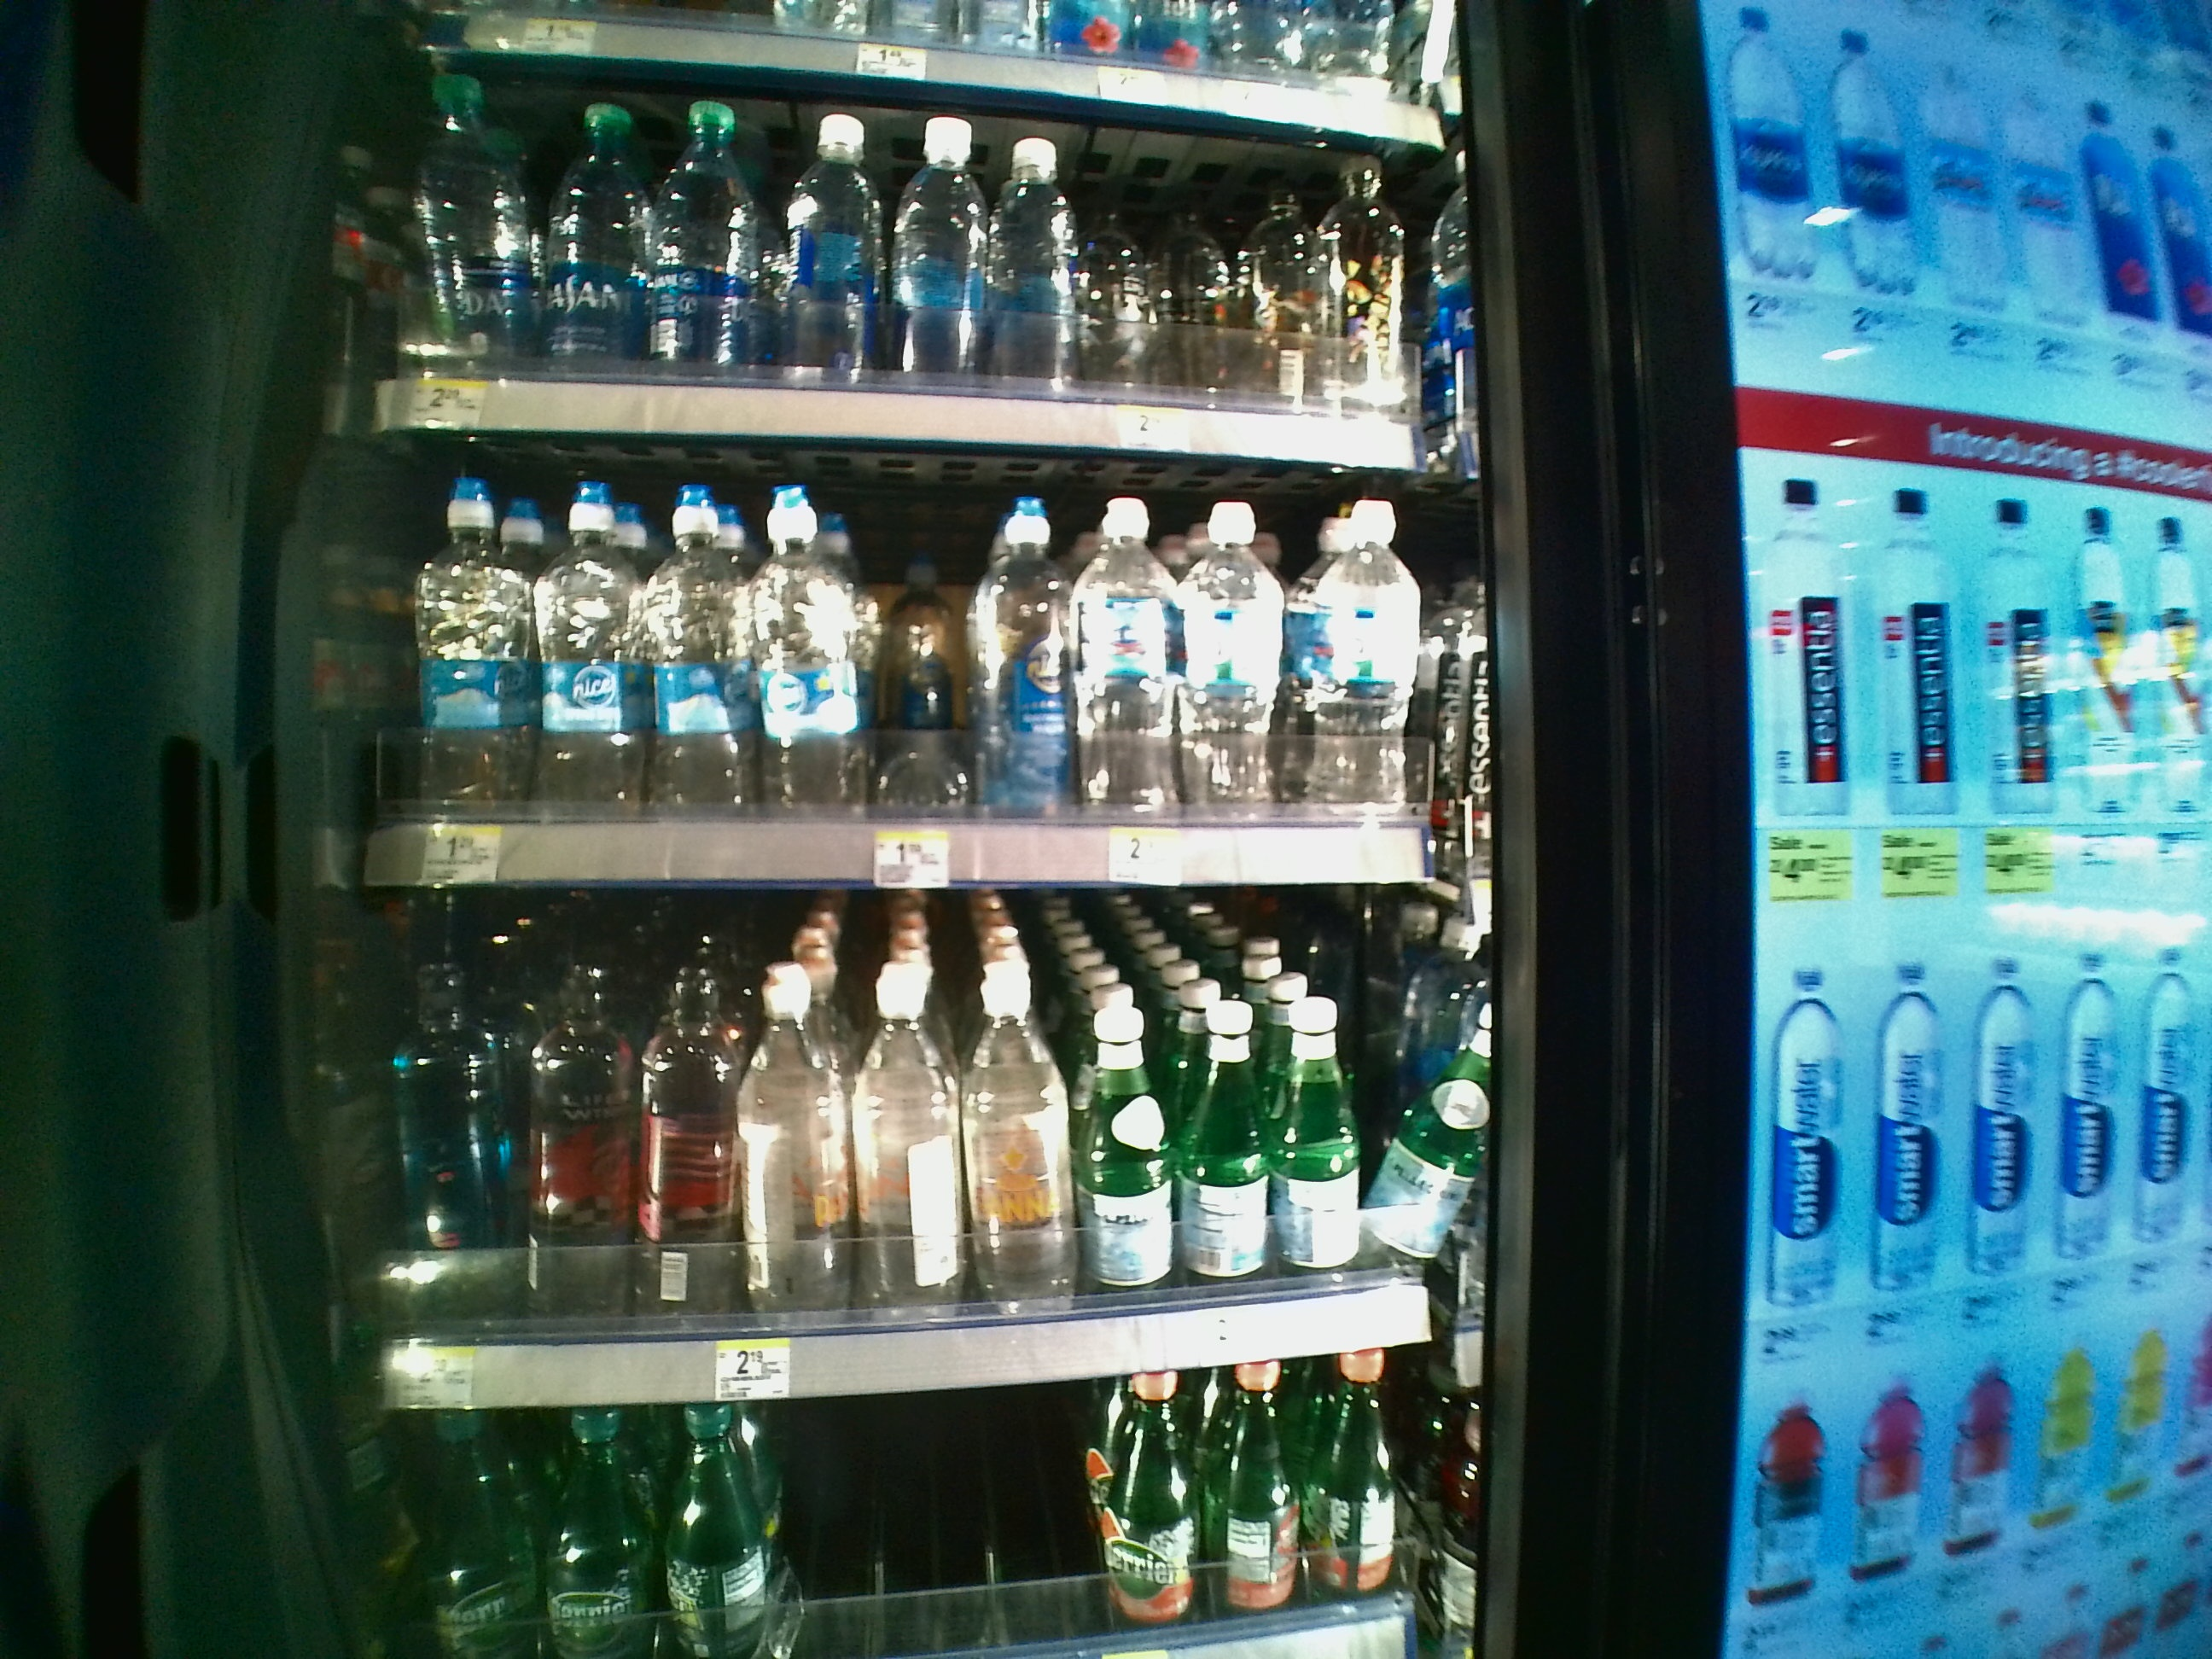shelf: (364, 897, 1491, 1412), (374, 441, 1444, 887)
